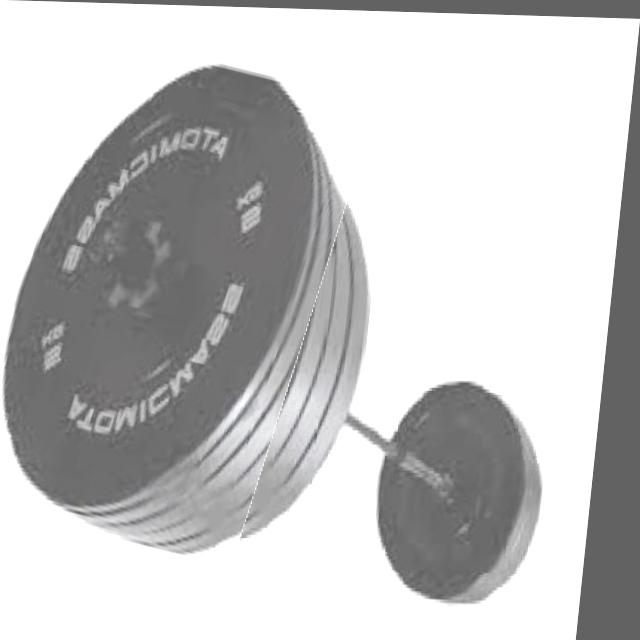barbell: (1, 33, 364, 555)
